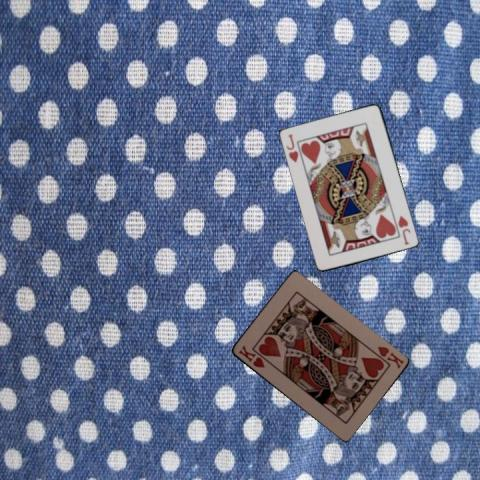Jh: (395, 213, 412, 246), (283, 131, 300, 164)
Kh: (235, 342, 266, 369), (374, 343, 405, 370)
